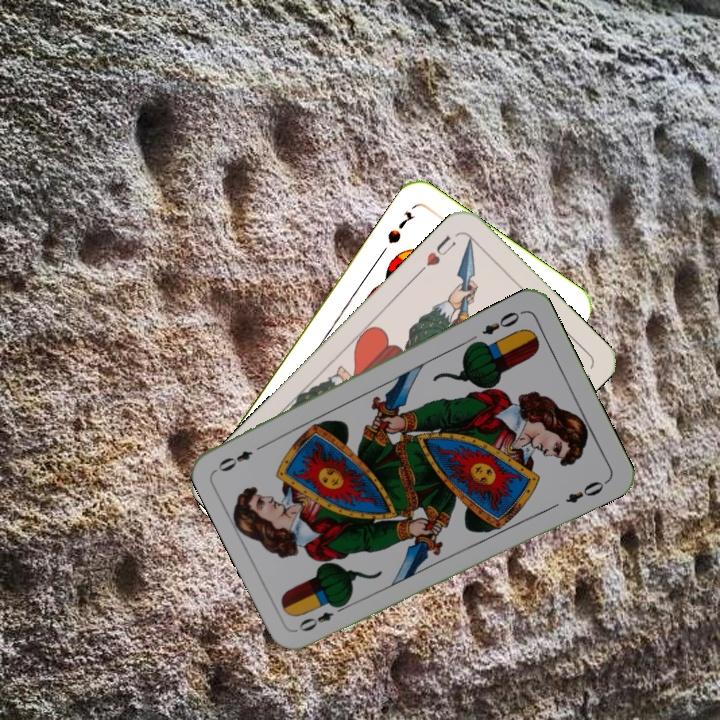EO: (294, 599, 349, 635), (478, 306, 526, 338)
HU: (415, 230, 459, 276)
S7: (383, 207, 417, 247)
